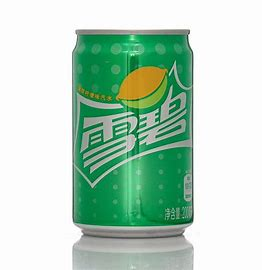Sprite: (69, 27, 198, 242)
